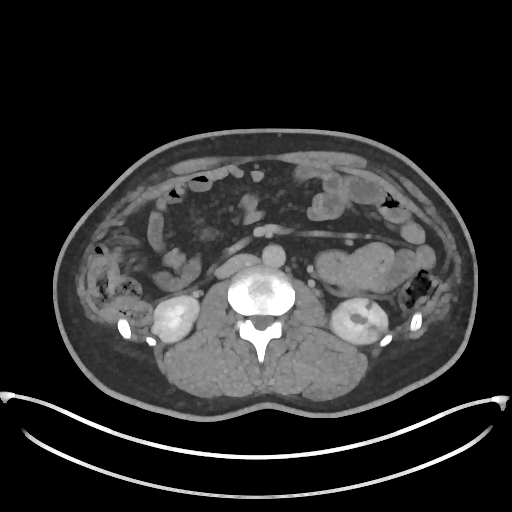Lesion: (370, 318, 391, 338)
